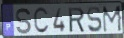4: (52, 7, 67, 34)
C: (33, 7, 51, 36)
M: (102, 5, 124, 34)
R: (68, 7, 86, 34)
S: (15, 7, 33, 36), (86, 6, 104, 34)
